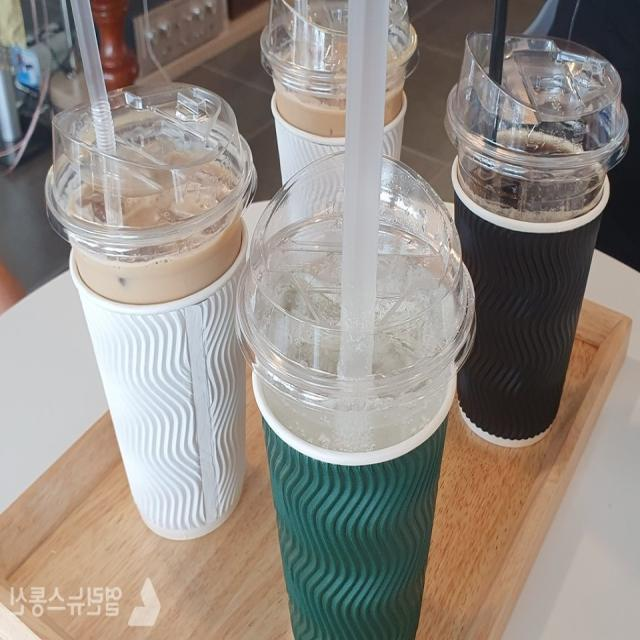cup: (229, 164, 488, 640), (31, 86, 262, 547), (434, 12, 632, 450), (246, 0, 432, 161)
